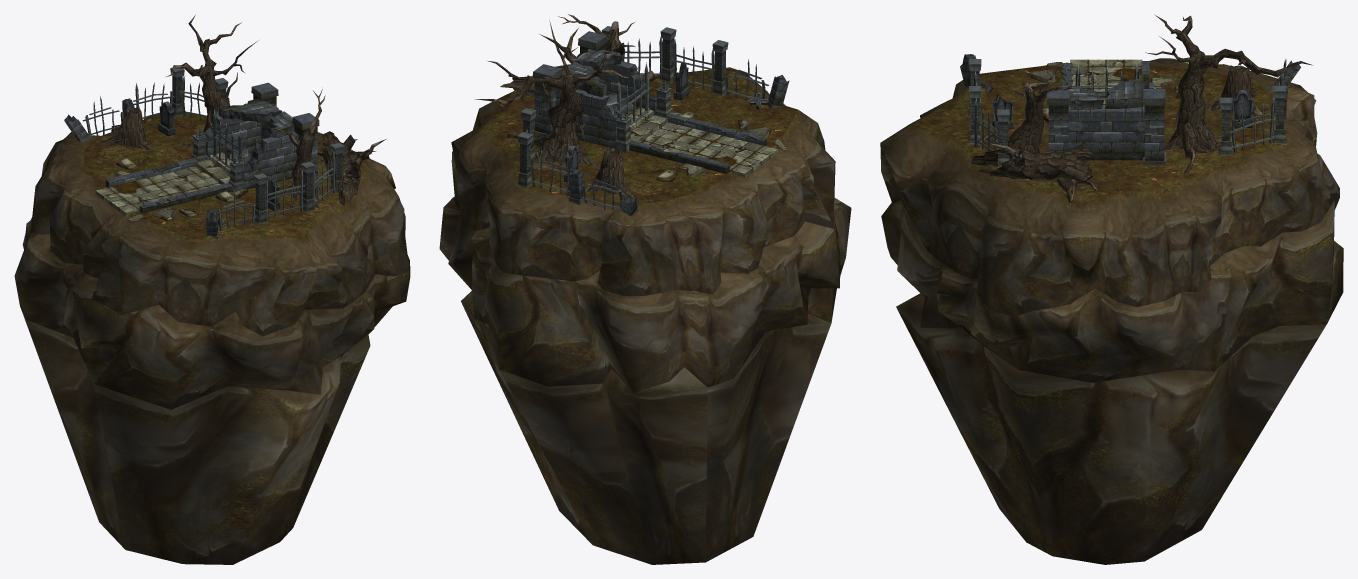
Rendered from Brigestart.fbx.
3 views of the same model, side by side, from view 1: azimuth 30°, elevation 25°; view 2: azimuth 150°, elevation 25°; view 3: azimuth 270°, elevation 25° (orthographic). The views are drawn at different scales.
Visible parts, largest first — view 1: Brigestart; view 2: Brigestart; view 3: Brigestart.
Part boxes in pixels (x1,y1,x2,y2): Brigestart: [14, 15, 410, 564]; Brigestart: [439, 14, 851, 564]; Brigestart: [880, 14, 1343, 564].
Size of the model in its own units: 18.3 by 24.31 by 19.32.
